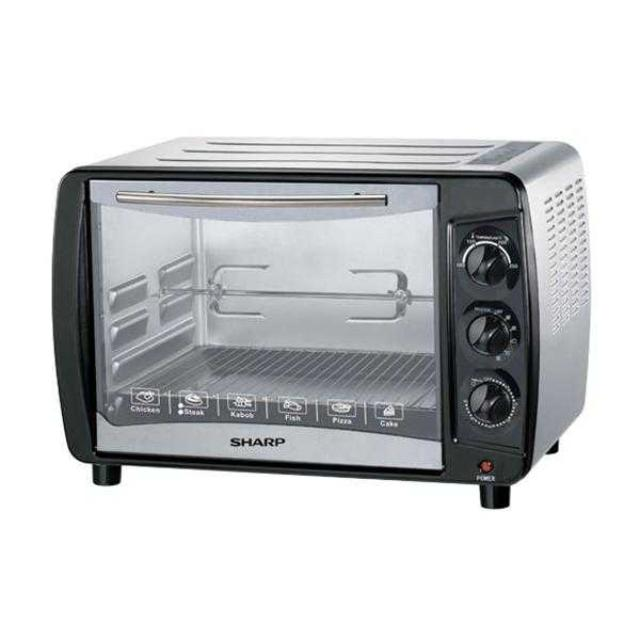Oven: (51, 162, 537, 490)
